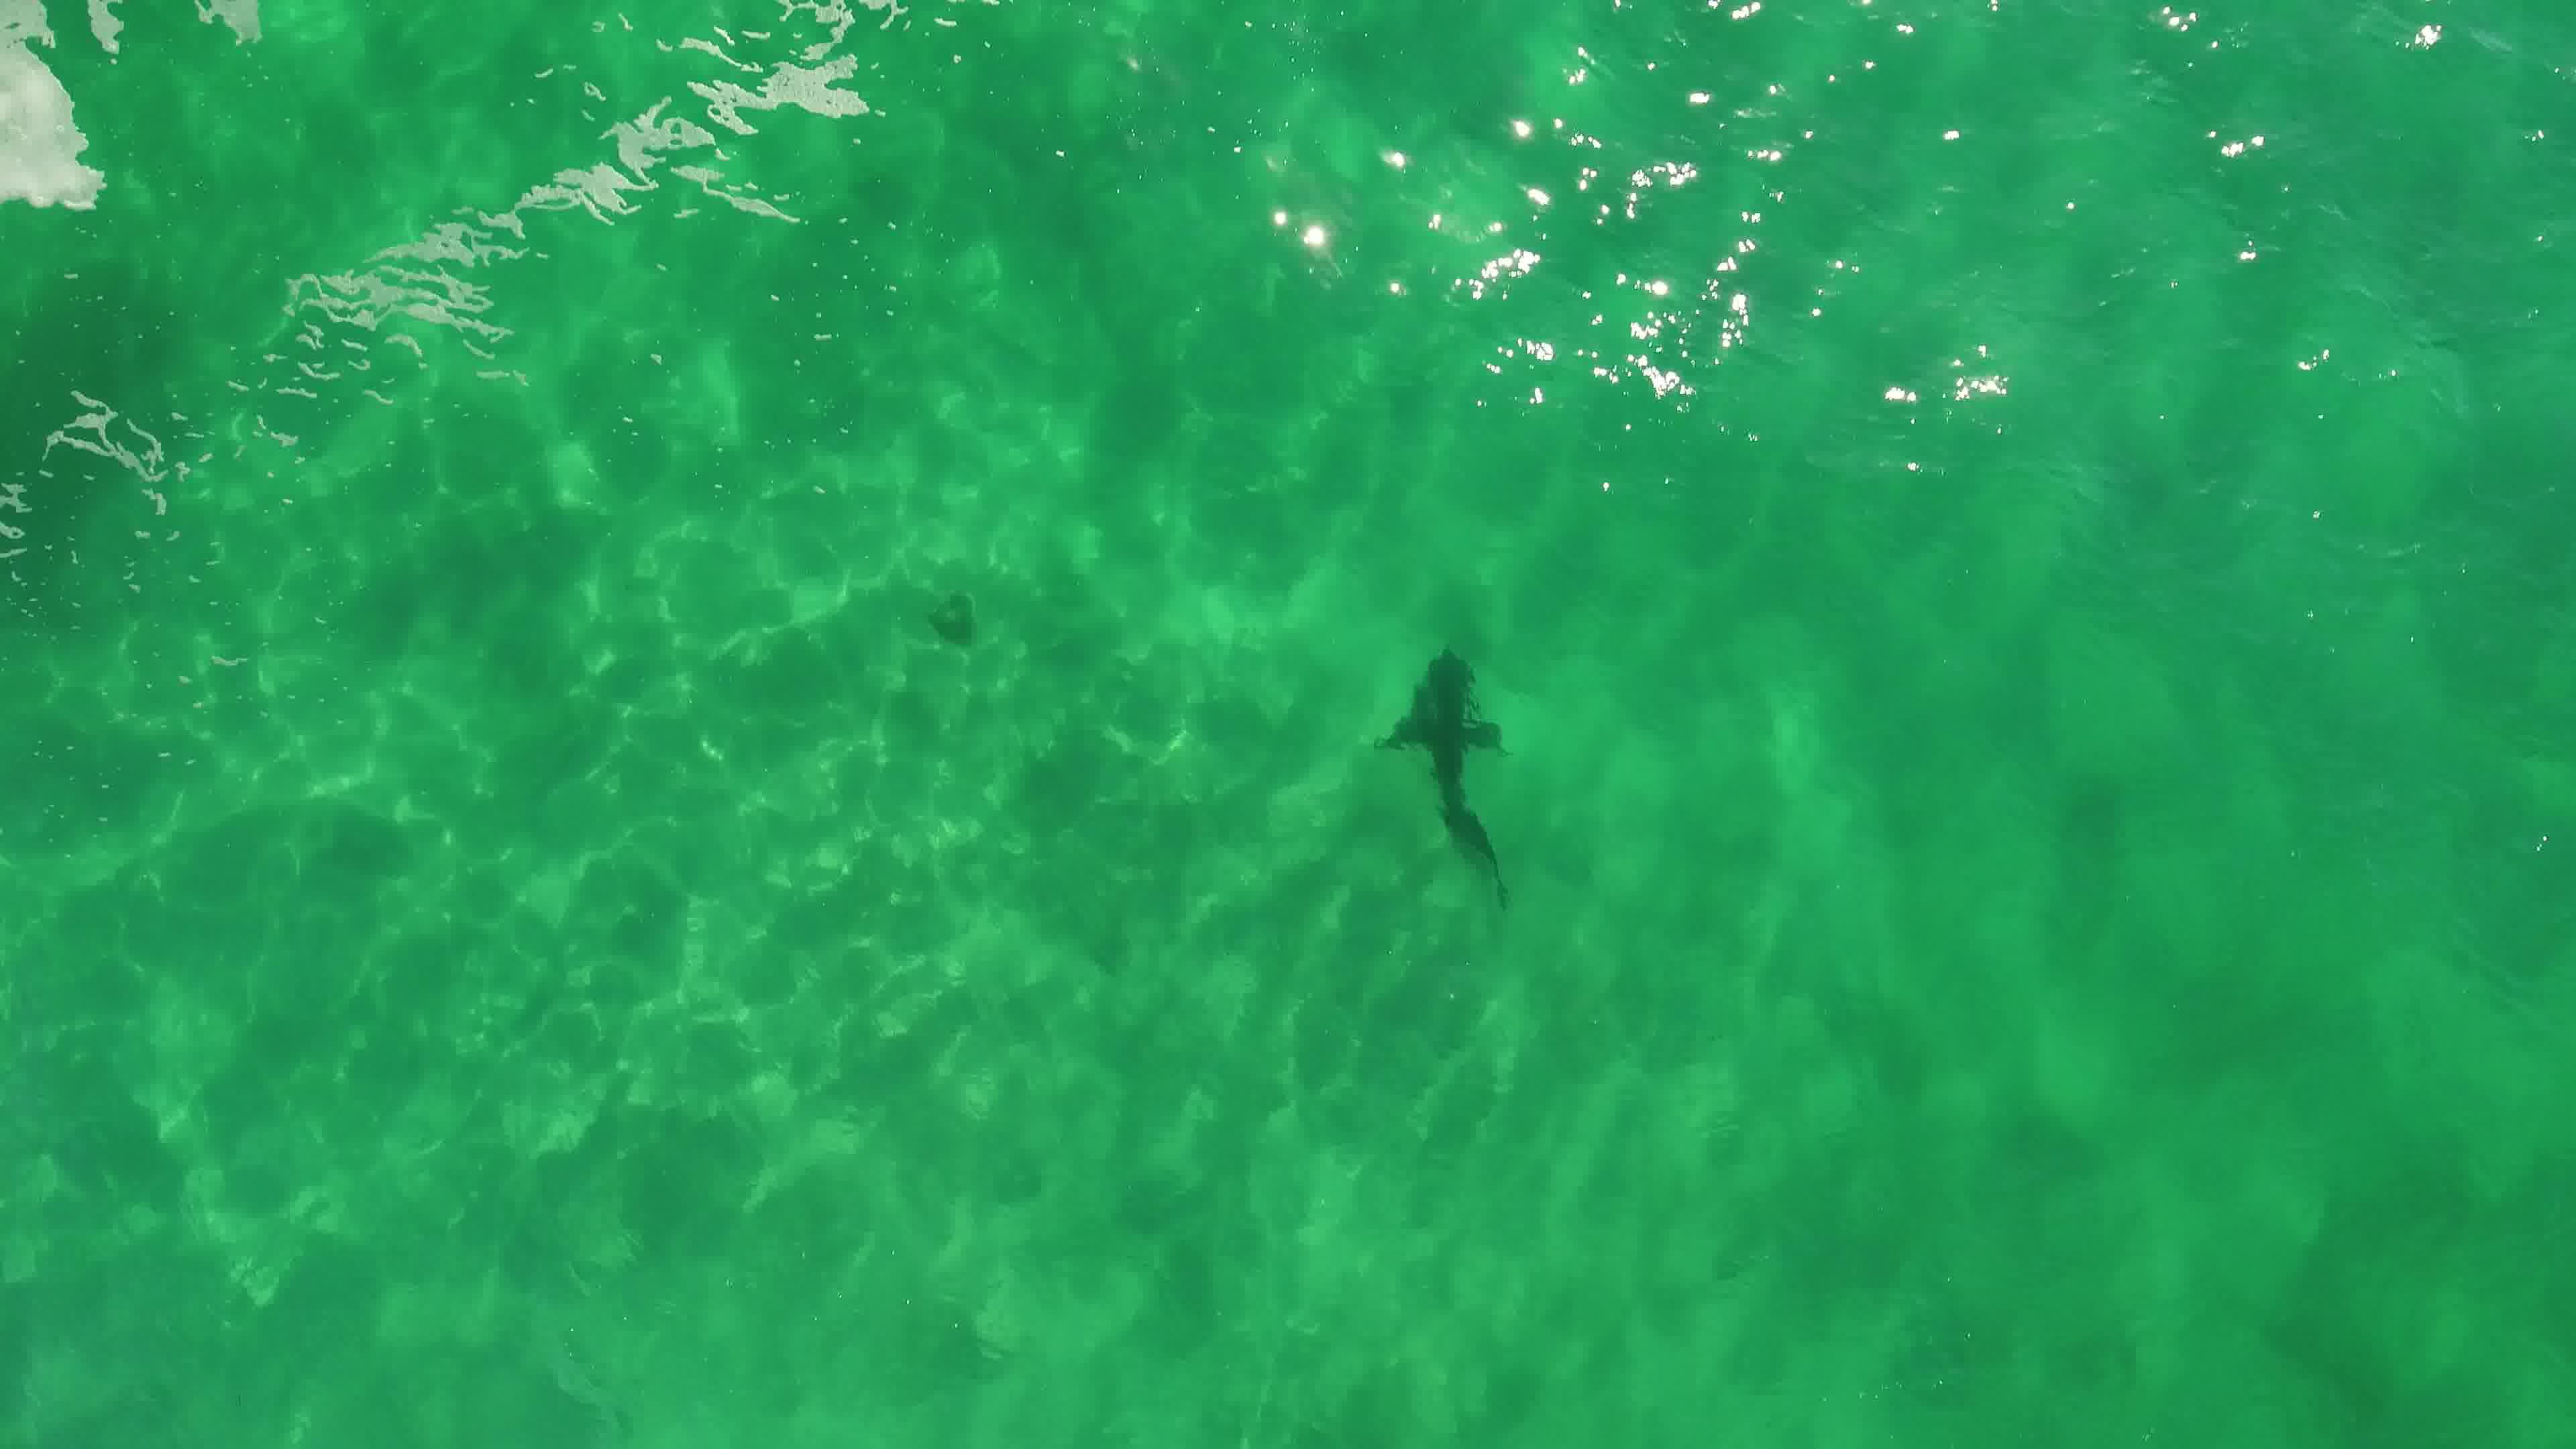shark: (1369, 639, 1520, 906)
